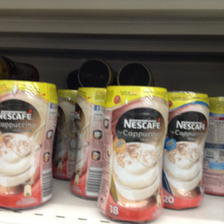coffee: (98, 86, 169, 224), (1, 80, 59, 213), (161, 91, 210, 210)
